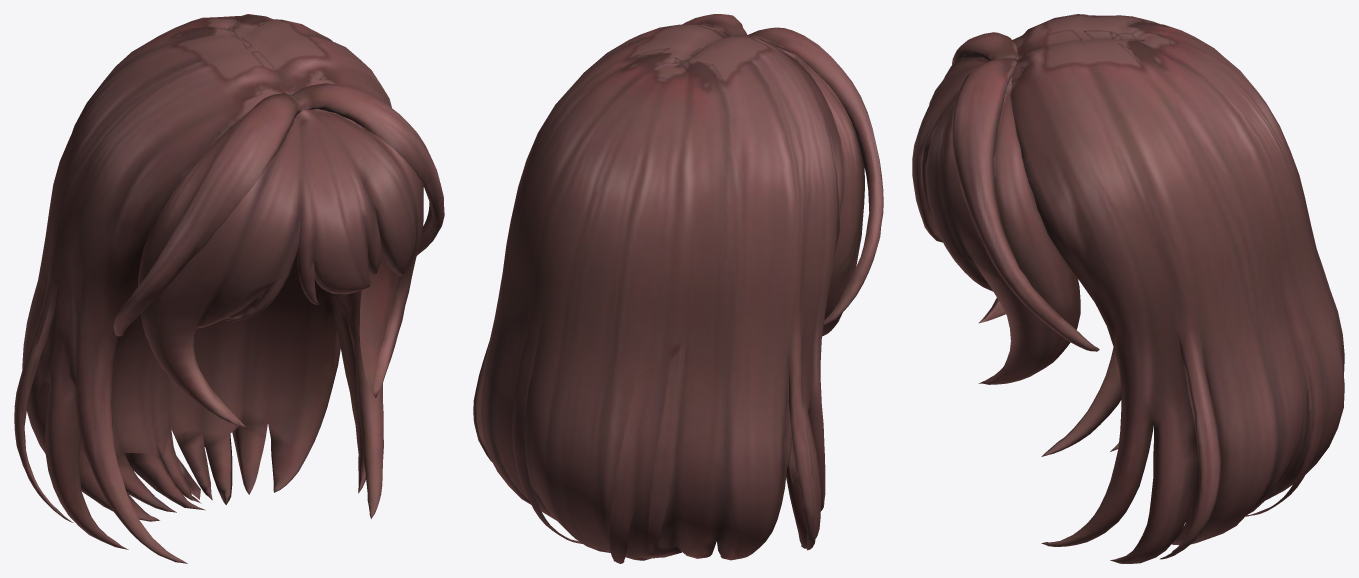
Rendered from hair_4_long.glb.
3 renders of one model, left to right at view 1: azimuth 30°, elevation 25°; view 2: azimuth 150°, elevation 25°; view 3: azimuth 270°, elevation 25°, orthographic. The views are drawn at different scales.
Parts seen in each view (by area): view 1: Hair_4_long; view 2: Hair_4_long; view 3: Hair_4_long.
Part boxes in pixels (left/top/right/bottom): Hair_4_long: left=14, top=14, right=444, bottom=563; Hair_4_long: left=473, top=14, right=883, bottom=563; Hair_4_long: left=912, top=14, right=1344, bottom=563.
Size of the model in its own units: 0.5187 by 0.6975 by 0.5669.
Materials: 1 (1 with a texture image).
